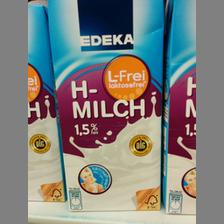Milch: (46, 0, 164, 216)
